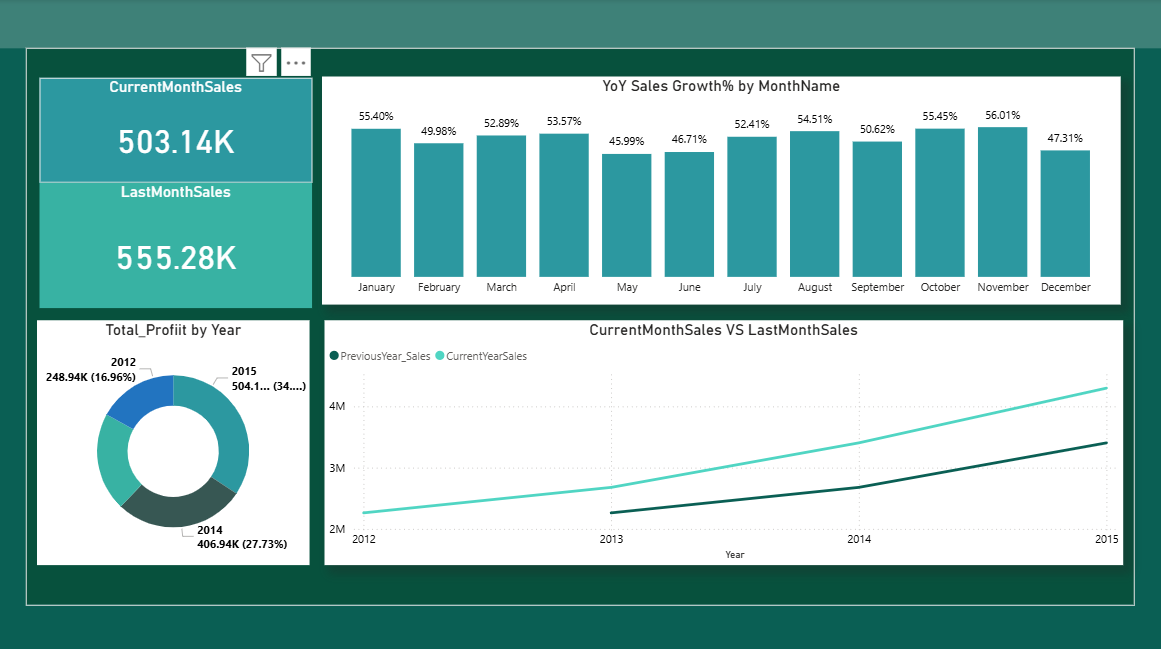

The page's visual inventory and layout, read from the dashboard file:
{"tool":"powerbi","page":{"name":"Time Intelligence (Growth Trends)","canvas":[1280,720],"ordinal":3},"visuals":[{"type":"group","id":"g1","title":"Group 1","box":[31.4,54.2,1217.3,611.5],"z":0},{"type":"shape","box":[31.4,54.2,1217.3,611.5],"z":0,"group":"g1"},{"type":"shape","box":[0,0,1280,54.2],"z":1000},{"type":"columnChart","fields":{"Y":["Measures (2).YoY Growth%"],"Category":["Dim_Date.MonthName"]},"box":[357.1,86.4,876.6,250.2],"z":1000,"group":"g1"},{"type":"lineChart","title":"CurrentMonthSales VS LastMonthSales ","fields":{"Y":["Measures (2).PreviousYear_Sales","Measures (2).CurrentYearSales"],"Category":["Dim_Date.Year"]},"box":[359.3,353.1,876.6,269],"z":2000,"group":"g1"},{"type":"card","title":"CurrentMonthSales","fields":{"Values":["Measures (2).CurrentMonthSales"]},"box":[46.3,87.1,299.1,115.1],"z":3000,"group":"g1"},{"type":"card","title":"LastMonthSales","fields":{"Values":["Measures (2).LM S"]},"box":[46.3,202,299.3,137.6],"z":4000,"group":"g1"},{"type":"donutChart","fields":{"Category":["Dim_Date.Year"],"Y":["Measures (2).Total_Profiit"]},"box":[44.3,353.1,299.3,269],"z":5000,"group":"g1"}]}

Visuals, with their boxes in screenshot pixels (x1, y1, x2, y2), scaled from the page's 1280x720 canvas onto the 1161x649 screenshot:
"Group 1" group: [28,49,1133,600]
shape: [28,49,1133,600]
shape: [0,0,1160,49]
columnChart - Measures (2).YoY Growth% x Dim_Date.MonthName: [324,78,1119,303]
"CurrentMonthSales VS LastMonthSales " lineChart: [326,318,1121,561]
"CurrentMonthSales" card: [42,79,313,182]
"LastMonthSales" card: [42,182,313,306]
donutChart - Dim_Date.Year x Measures (2).Total_Profiit: [40,318,312,561]
